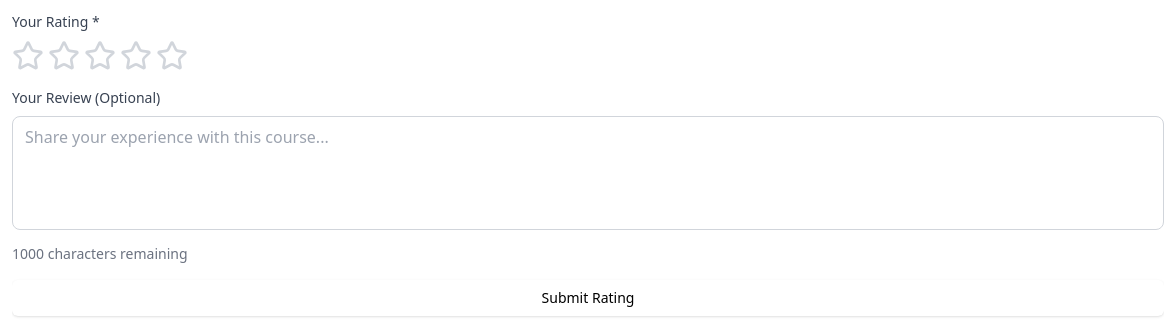
Test: RatingInput Component › Form Validation › should show character count
The width and height of the screenshot is (1176, 334).
In the text box with placeholder "Share your experience with this course...": (588, 173) 12,116 -> 1164,230, type "Great course!"
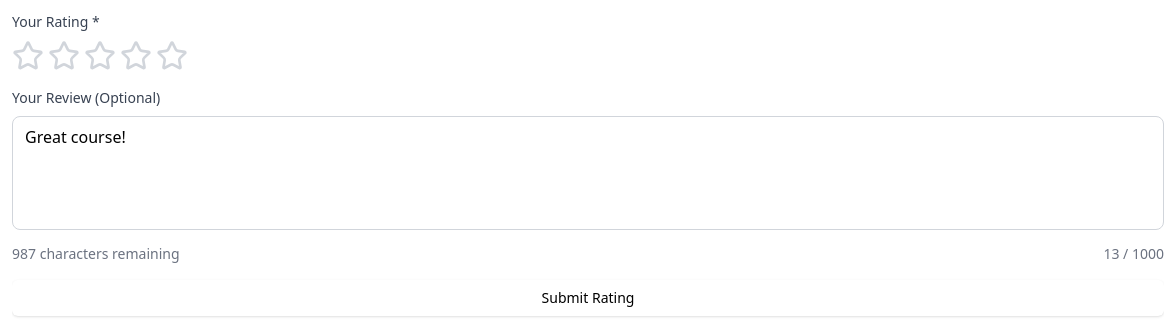
Check: the text "987 characters remaining" is shown, box 12,244 -> 180,264
